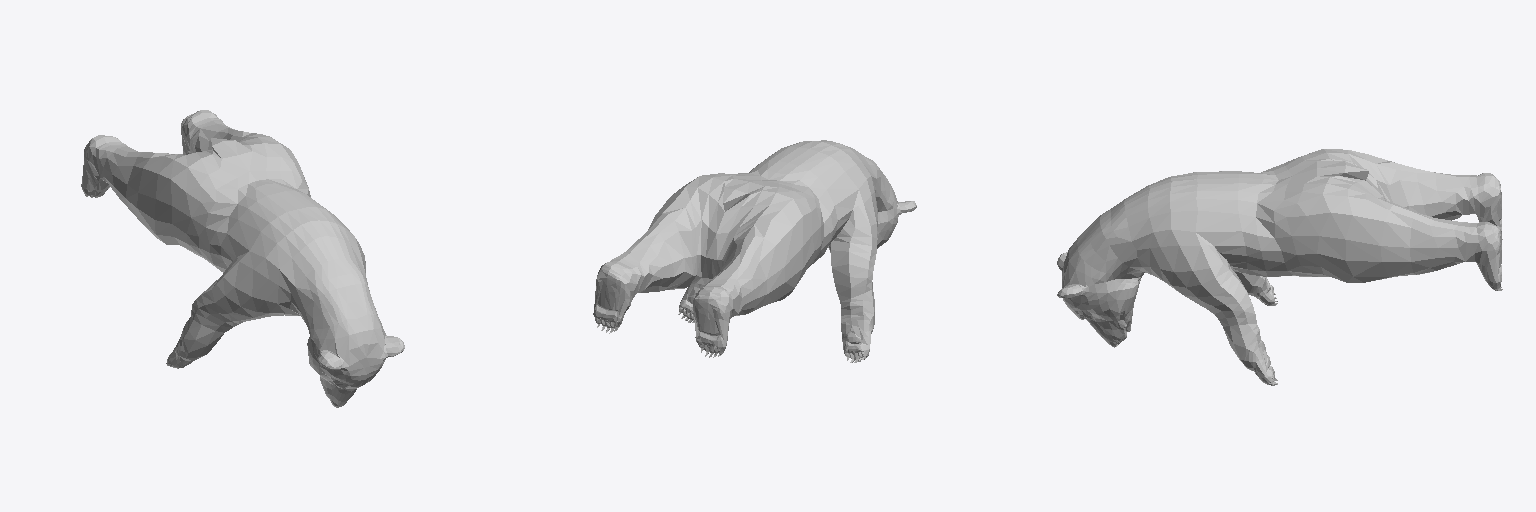
File: panda.obj
3 views of the same model, side by side, from view 1: azimuth 30°, elevation 25°; view 2: azimuth 150°, elevation 25°; view 3: azimuth 270°, elevation 25° (orthographic).
Visible parts, largest first — view 1: kodiak__2; view 2: kodiak__2; view 3: kodiak__2.
Boxes of the visible parts, x1,y1,x2,y2 form: kodiak__2: [81, 110, 404, 407]; kodiak__2: [593, 140, 916, 362]; kodiak__2: [1057, 149, 1502, 385].
Size of the model in its own units: 1.25 by 1.14 by 2.55.